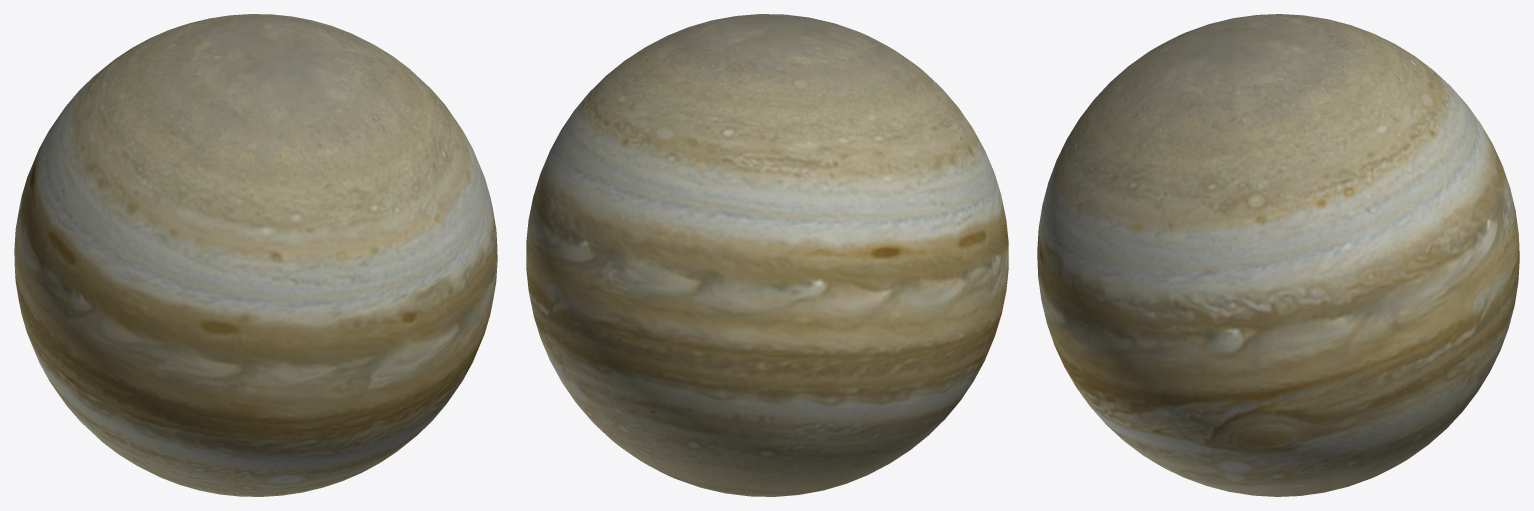
File: planet.glb
3 renders of one model, left to right at view 1: azimuth 30°, elevation 25°; view 2: azimuth 150°, elevation 25°; view 3: azimuth 270°, elevation 25°, orthographic.
Parts seen in each view (by area): view 1: Sphere; view 2: Sphere; view 3: Sphere.
Part boxes in pixels (<box>): Sphere: <box>14,14,497,496</box>; Sphere: <box>526,14,1008,496</box>; Sphere: <box>1037,14,1519,496</box>.
Size of the model in its own units: 2 by 2 by 2.
Materials: 1 (1 with a texture image).
